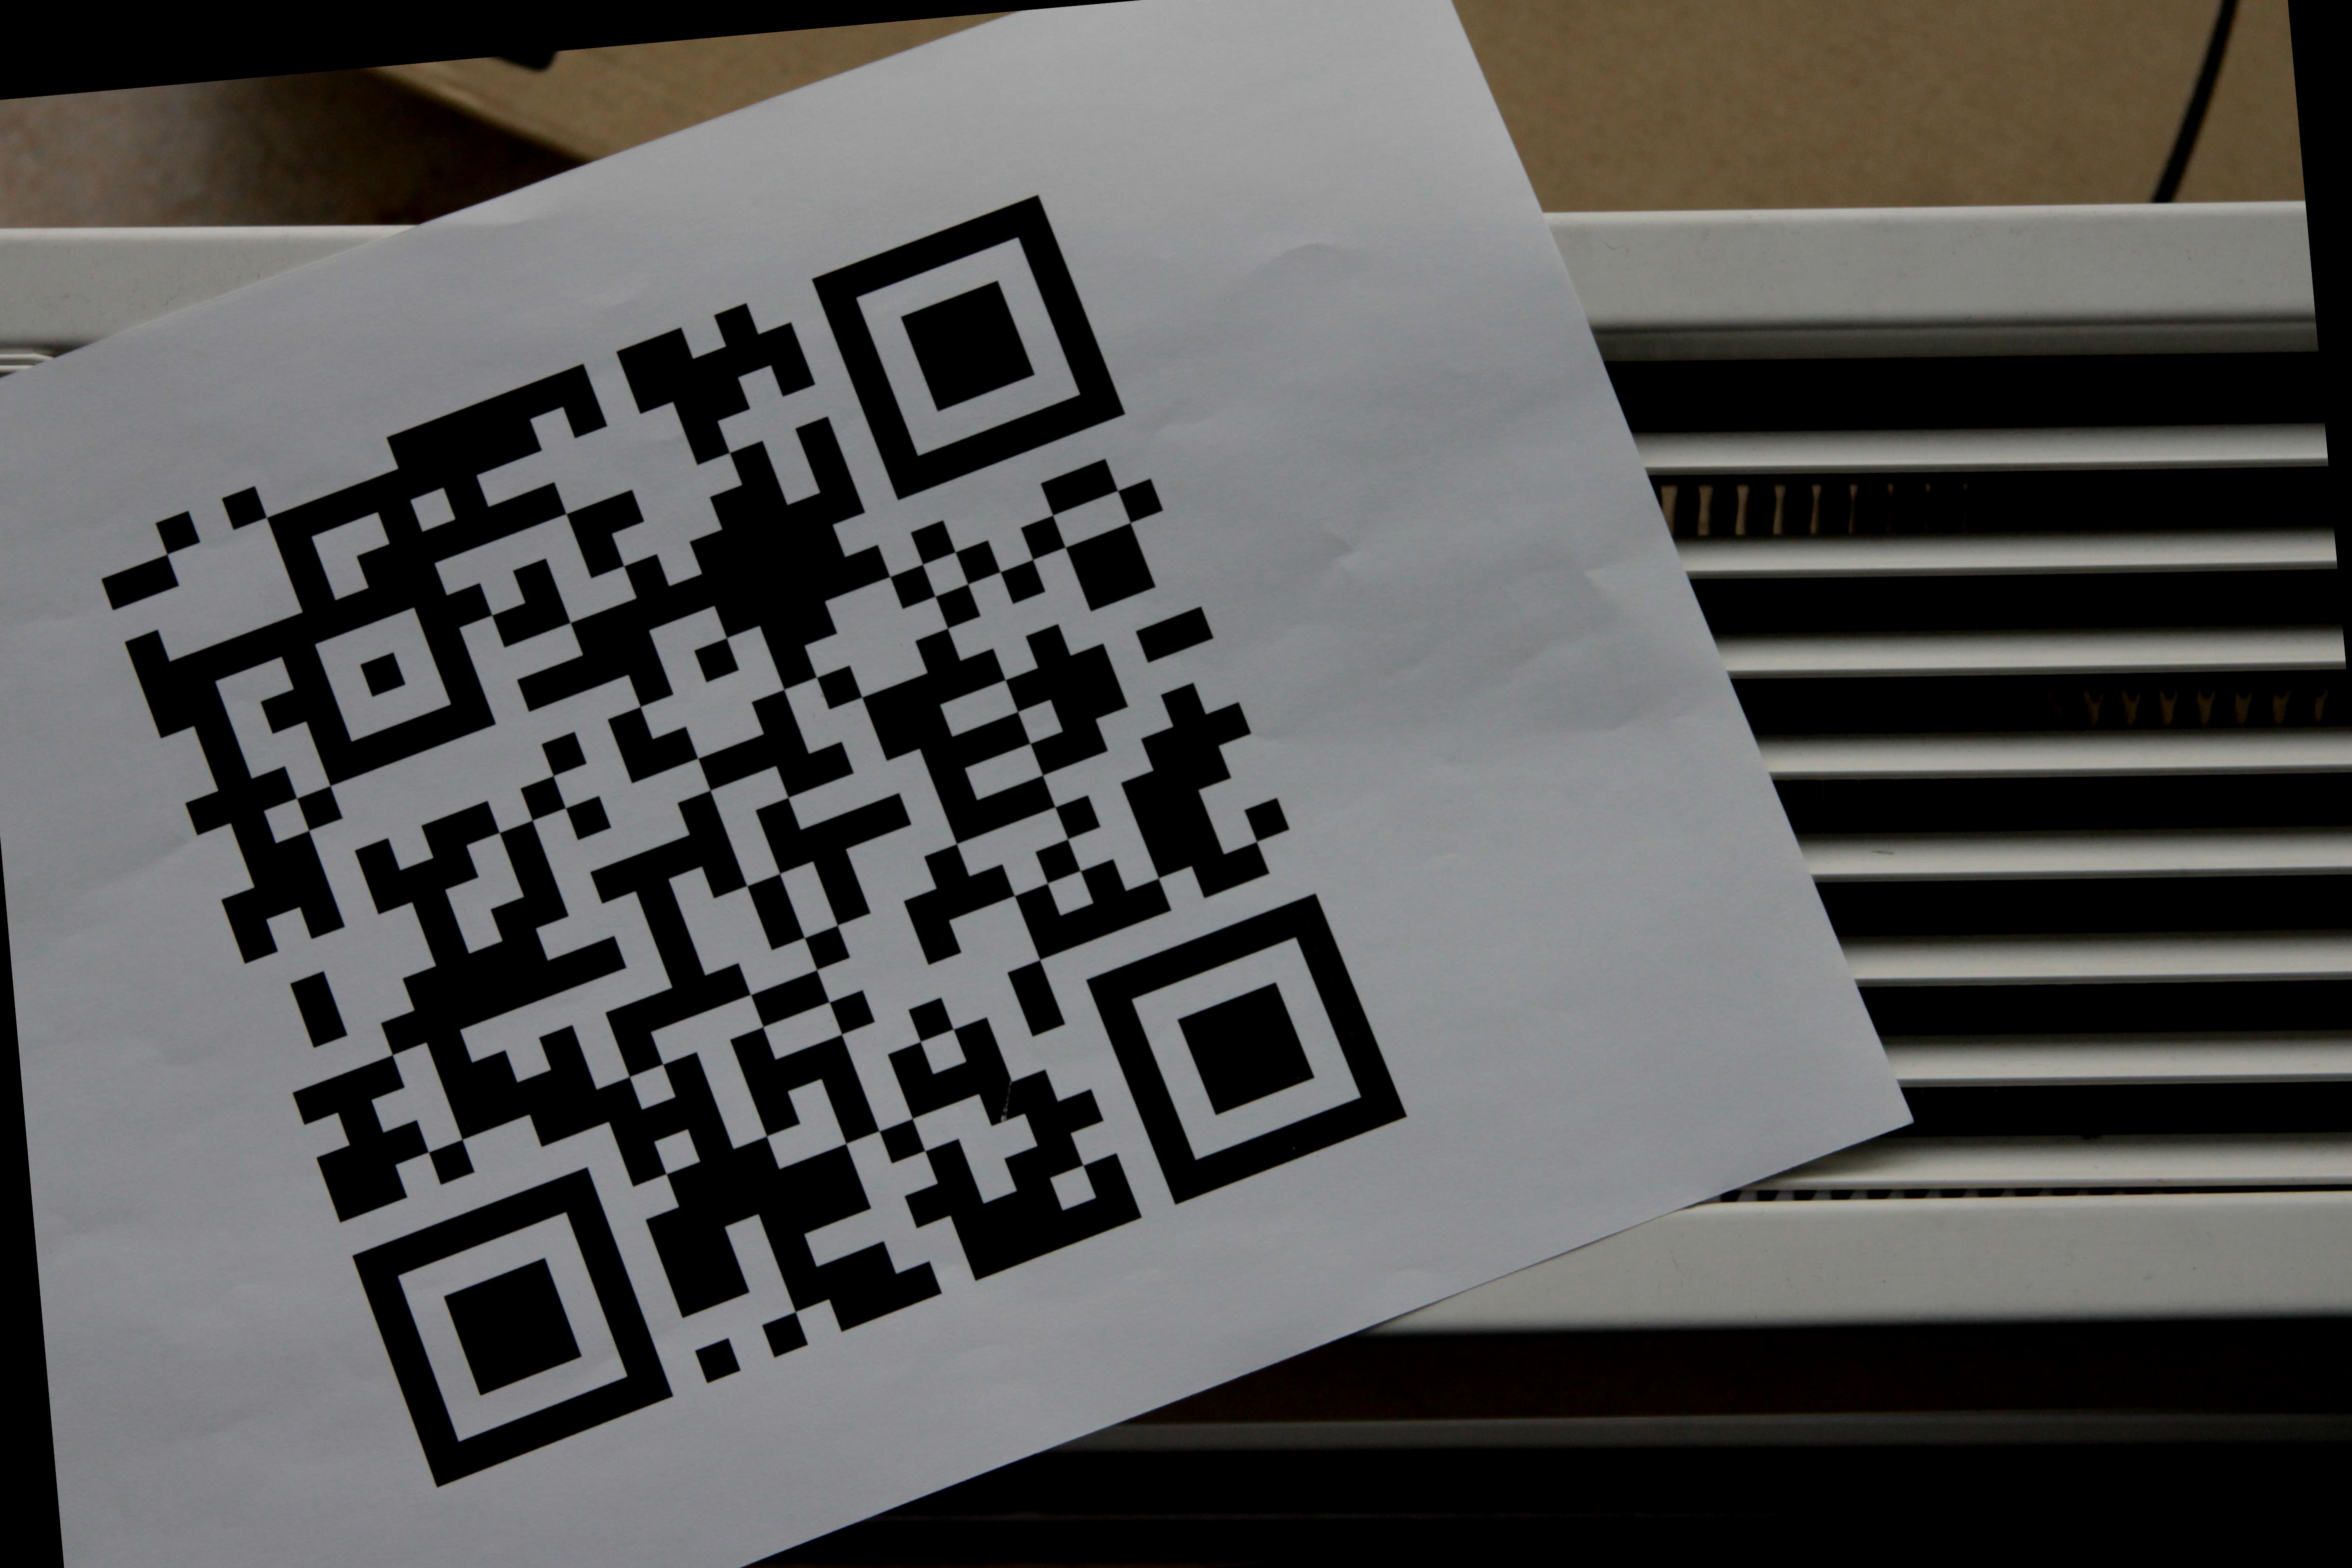QR: (101, 196, 1407, 1479)
